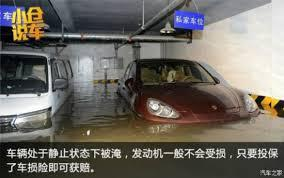water: (0, 81, 283, 143)
